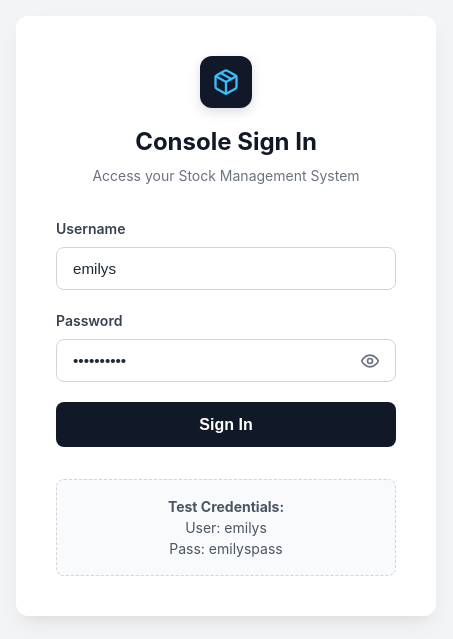
Test: LoginView › toggles password visibility when eye icon button is clicked
The width and height of the screenshot is (453, 639).
Click eye toggle button
Step 1. Click the button with class "eye-toggle" → (370, 361), box 352,343 -> 388,379
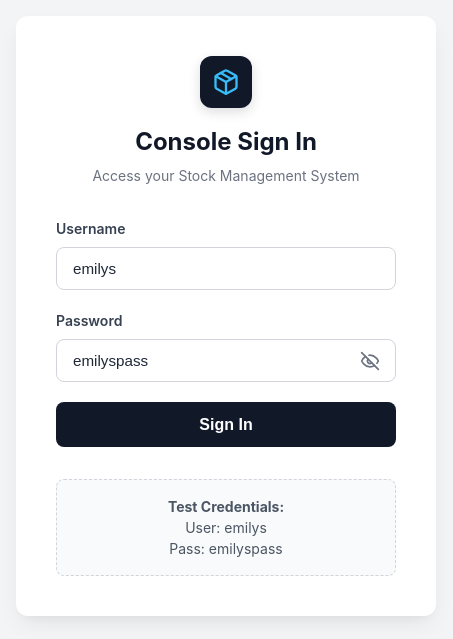
Now the field labelled "Password" shows its text, box 56,339 -> 396,382
Click again to toggle back
Step 2. Click the button with class "eye-toggle" → (370, 361), box 352,343 -> 388,379
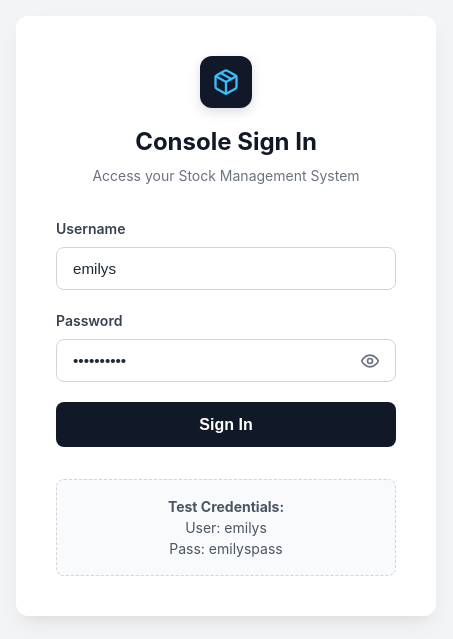
Now the password field labelled "Password" hides its text, box 56,339 -> 396,382
